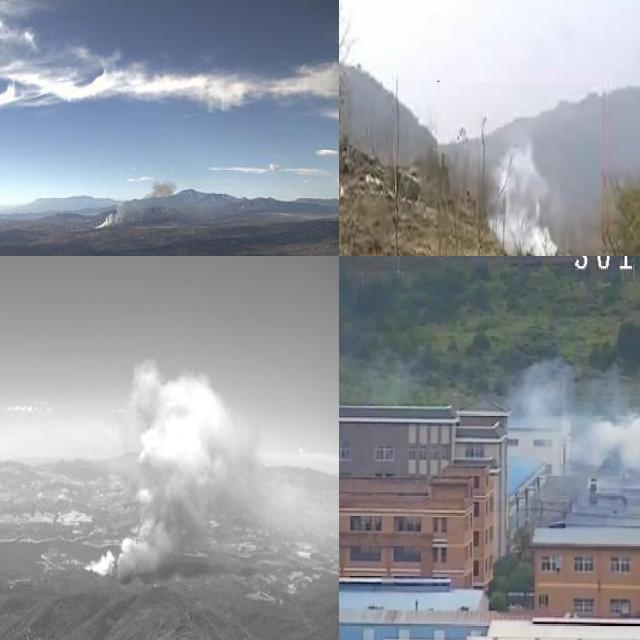smoke: (78, 349, 286, 581), (508, 359, 640, 474), (484, 140, 564, 256), (87, 175, 182, 233)
